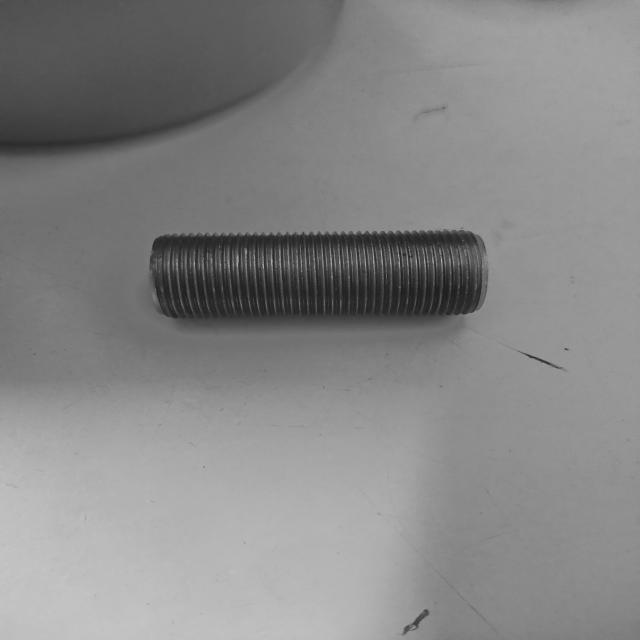Normal: (150, 228, 487, 322)
